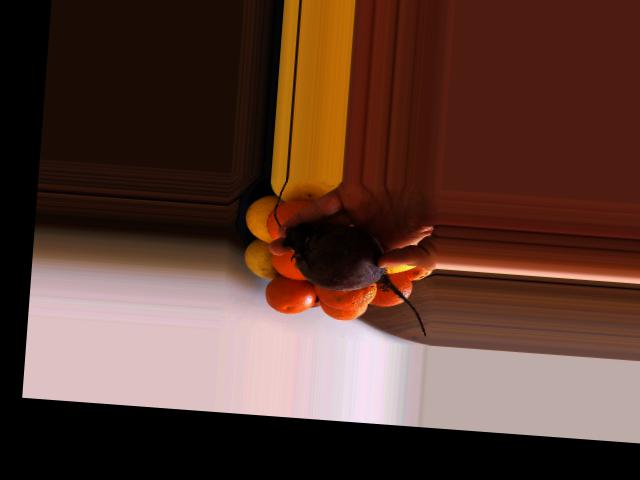beet: (278, 220, 433, 335)
